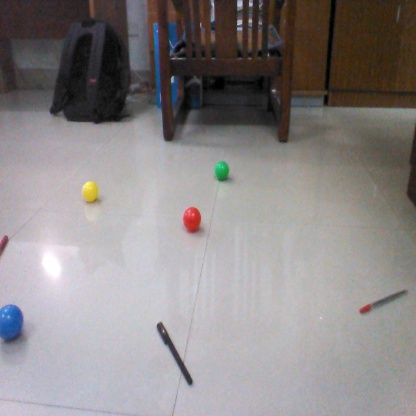ball: (1, 302, 29, 341), (180, 207, 203, 233), (80, 181, 101, 203), (215, 159, 232, 181)
pen: (158, 324, 195, 385), (358, 285, 408, 314)
